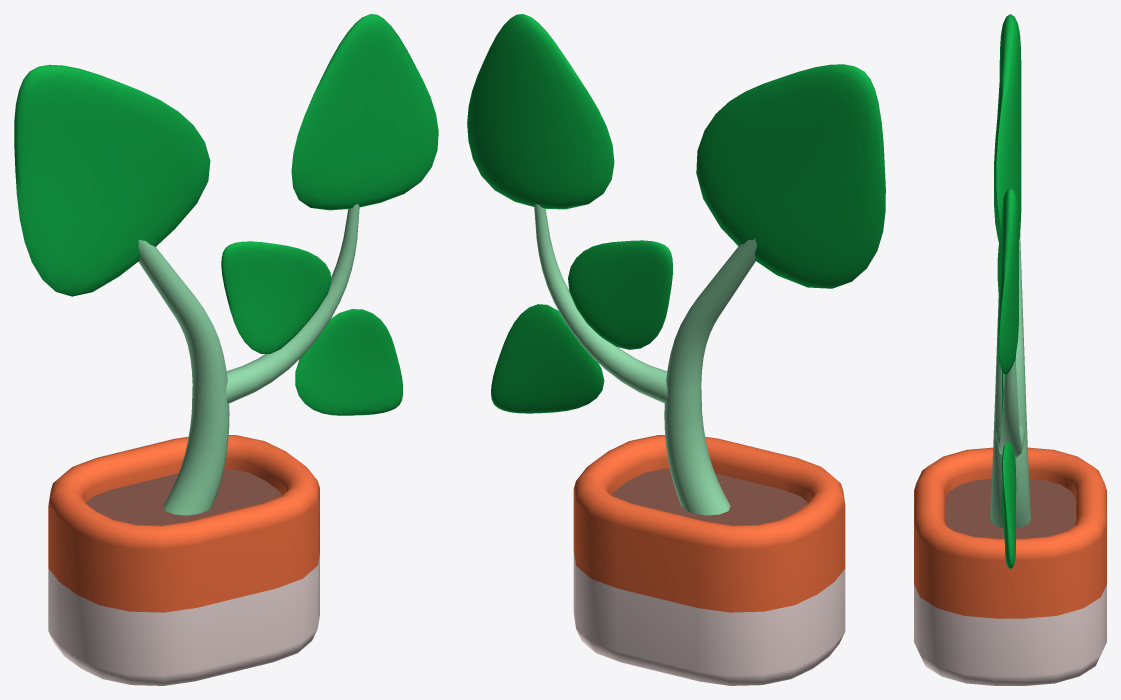
File: City_14_Plant_1.glb
3 views of the same model, side by side, from view 1: azimuth 30°, elevation 25°; view 2: azimuth 150°, elevation 25°; view 3: azimuth 270°, elevation 25° (orthographic). The views are drawn at different scales.
Visible parts, largest first — view 1: City_14_Plant_1; view 2: City_14_Plant_1; view 3: City_14_Plant_1.
Boxes of the visible parts, x1=… form: City_14_Plant_1: x1=14, y1=14, x2=438, y2=685; City_14_Plant_1: x1=467, y1=14, x2=885, y2=685; City_14_Plant_1: x1=914, y1=14, x2=1106, y2=685.
Size of the model in its own units: 0.9686 by 1.34 by 0.4188.
1 material, 1 textured.
